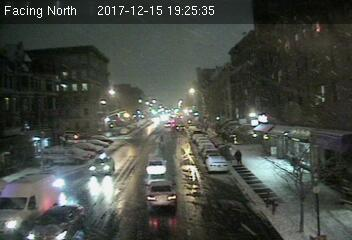car: (26, 204, 87, 240), (145, 179, 177, 208), (89, 152, 114, 178), (145, 156, 168, 177), (205, 155, 229, 173)
pedestrian: (234, 150, 245, 165)
truck: (1, 169, 65, 238)
